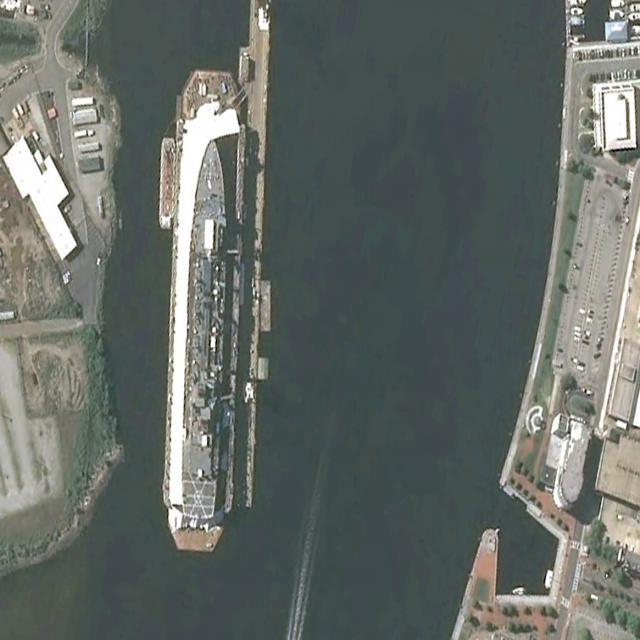Commander: (180, 137, 231, 518)
